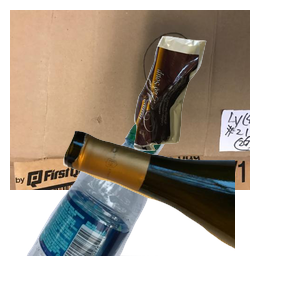cardboard: (10, 10, 250, 190)
glass: (60, 128, 300, 300)
plastic: (24, 120, 182, 300)
trash: (131, 34, 300, 177)
